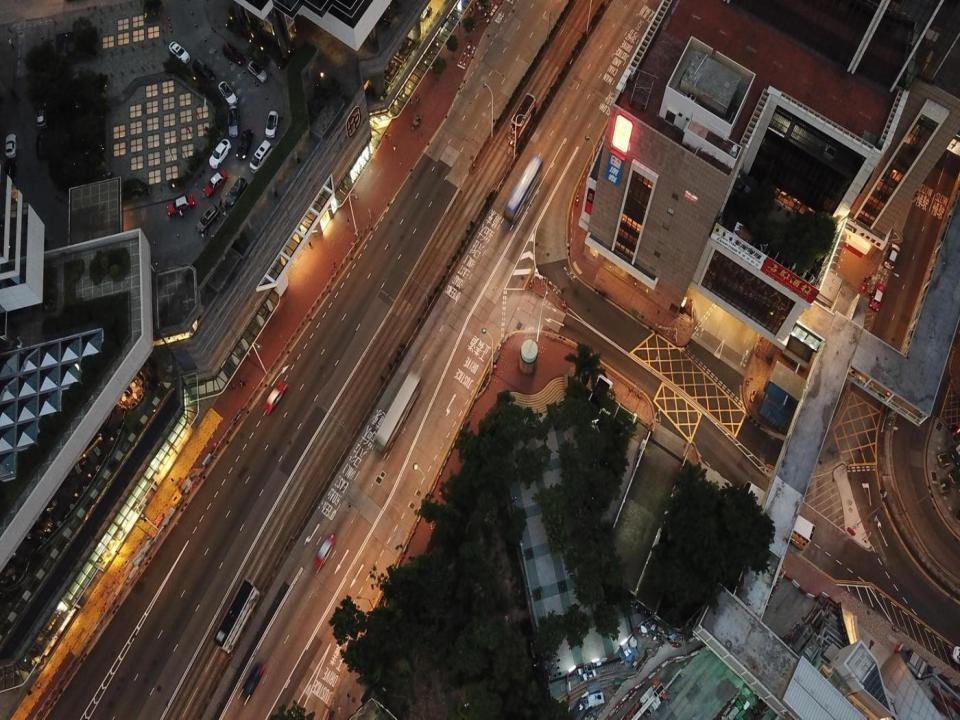bus: (740, 481, 816, 551), (374, 373, 422, 454), (214, 579, 259, 652), (503, 154, 545, 230), (508, 92, 536, 146)
car: (239, 662, 265, 706), (311, 534, 337, 571), (263, 381, 288, 413), (209, 138, 231, 168), (203, 170, 228, 195), (167, 194, 194, 214), (236, 130, 253, 160), (219, 81, 238, 106), (884, 243, 900, 270), (869, 284, 882, 312), (265, 111, 278, 138), (5, 133, 17, 158), (4, 161, 16, 186)
van: (249, 140, 273, 174), (196, 205, 220, 234), (225, 177, 247, 205), (222, 42, 245, 66), (168, 40, 190, 63), (192, 60, 215, 82), (248, 60, 268, 82), (35, 133, 46, 160), (228, 107, 238, 136), (36, 102, 46, 126)
